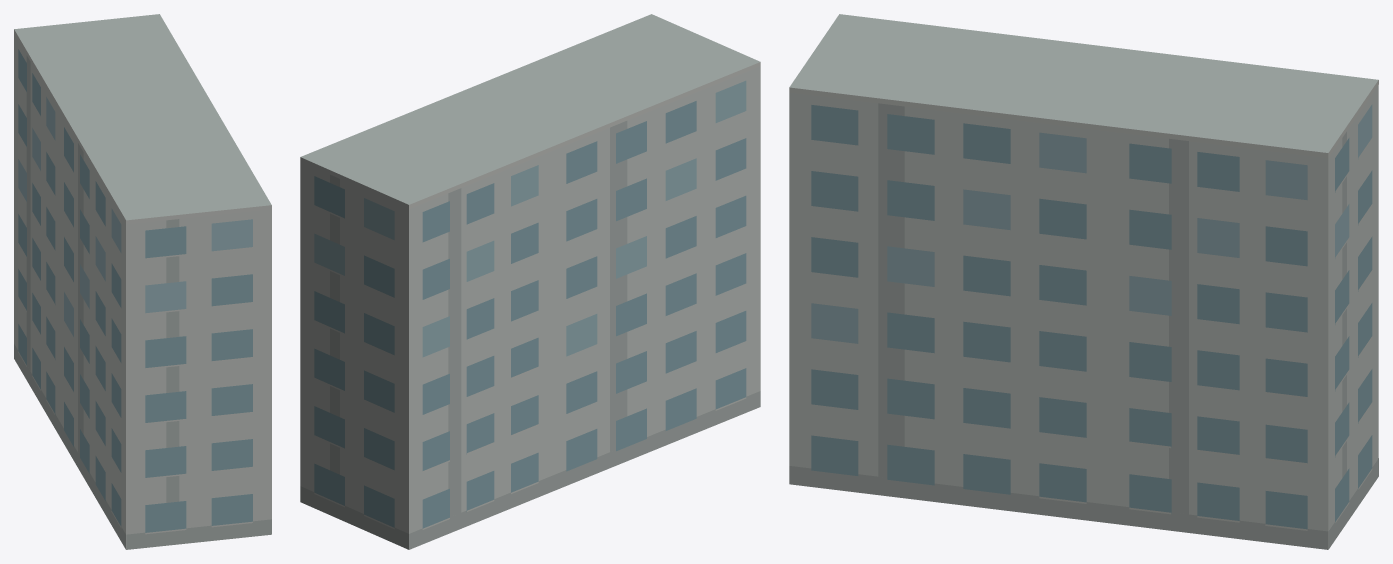
The model's file is survey-upis-32868980.glb.
3 renders of one model, left to right at view 1: azimuth 30°, elevation 25°; view 2: azimuth 150°, elevation 25°; view 3: azimuth 270°, elevation 25°, orthographic. The views are drawn at different scales.
Visible parts, largest first — view 1: survey-upis-32868980.tmp; view 2: survey-upis-32868980.tmp; view 3: survey-upis-32868980.tmp.
Boxes of the visible parts, <box> form: survey-upis-32868980.tmp: <box>14,14,271,549</box>; survey-upis-32868980.tmp: <box>300,14,760,549</box>; survey-upis-32868980.tmp: <box>789,14,1378,549</box>.
Bounding box in the file's own units: 14.44 × 19.2 × 25.86.
